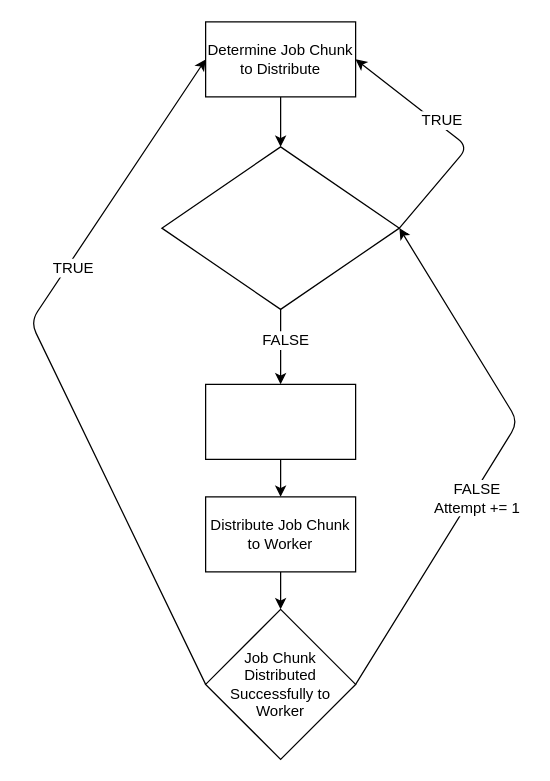
Some shapes in this 550 by 781 pixel diagram are drawn without their labels. The box of each missing label's shape, as (x1, y1, x2, y2) in pixels:
Determine Worker to Which Assign Job Chunk: (204, 383, 356, 459)
Job Chunk Distributed or Attempt == n: (161, 146, 399, 309)
